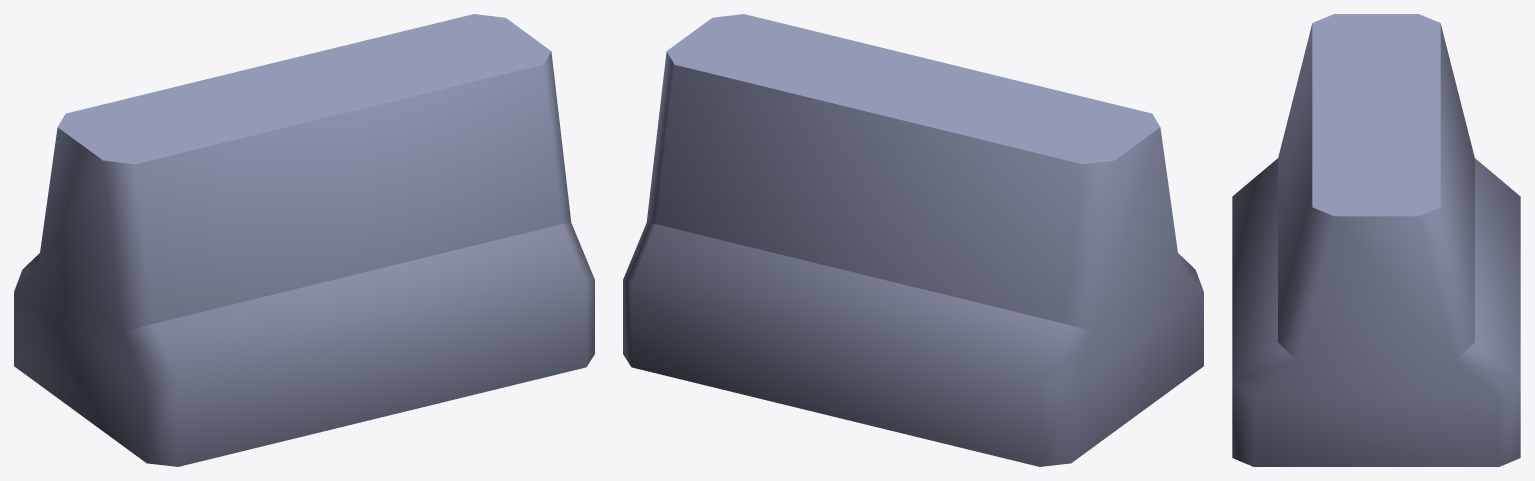
The model's file is barreira.glb.
The picture shows the model from 3 angles, left to right: view 1: azimuth 30°, elevation 25°; view 2: azimuth 150°, elevation 25°; view 3: azimuth 270°, elevation 25°; orthographic projection. The views are drawn at different scales.
Visible parts, largest first — view 1: modelo; view 2: modelo; view 3: modelo.
Part boxes in pixels (<box>): modelo: <box>14,14,594,466</box>; modelo: <box>623,14,1203,466</box>; modelo: <box>1232,14,1520,466</box>.
Size of the model in its own units: 1.75 by 1.01 by 1.05.
